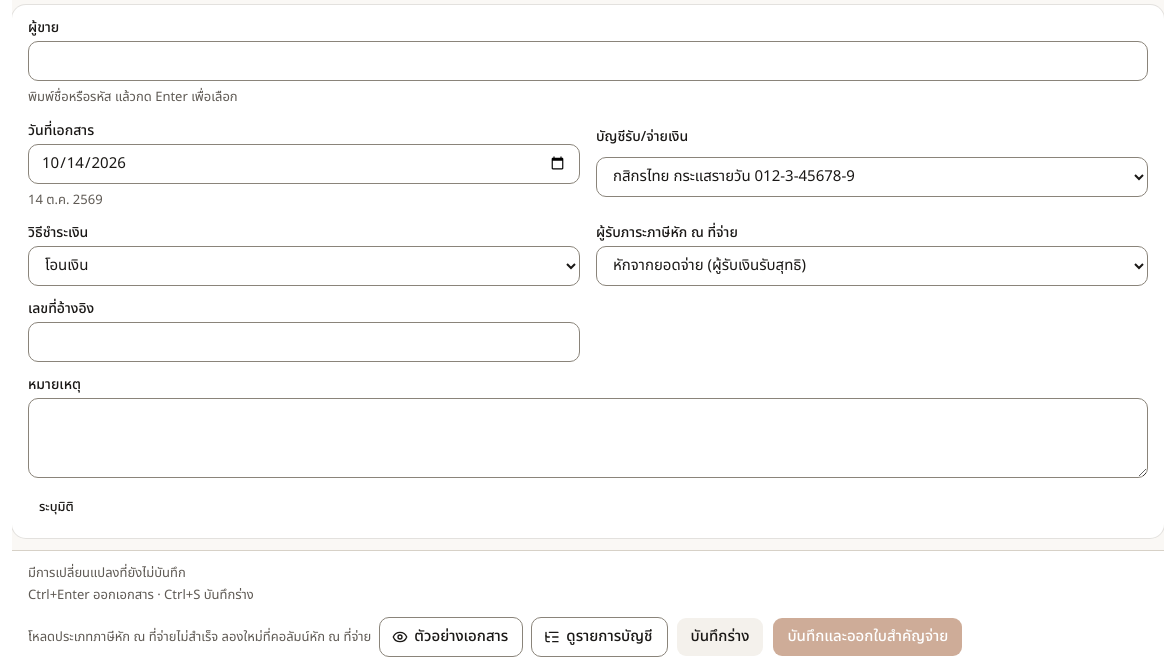
Scenario: DocEditor: payment voucher with withholding › a voucher line defaults to the no-VAT code, and a WHT-types load error shows a retry in the column and blocks issuing (never silently "none")
Type "ภูพาน" into the dropdown labelled "ผู้ขาย" at (588, 61), box [28,41,1148,81]
Then press Enter
(page scrolled)
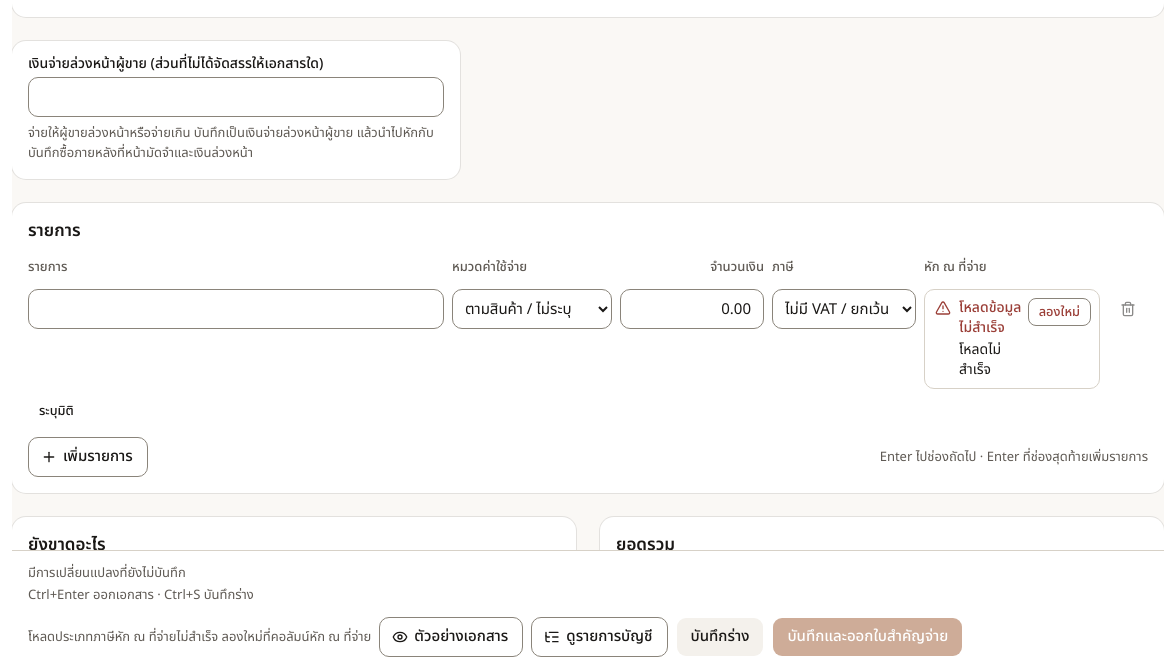
Expected: the dropdown named "ภาษีรายการ 1" shows "ไม่มี VAT / ยกเว้น", [772,289,916,329]
Type "ค่าถ่ายภาพ" into the dropdown named "รายการ 1" at (236, 309), box [28,289,444,329]
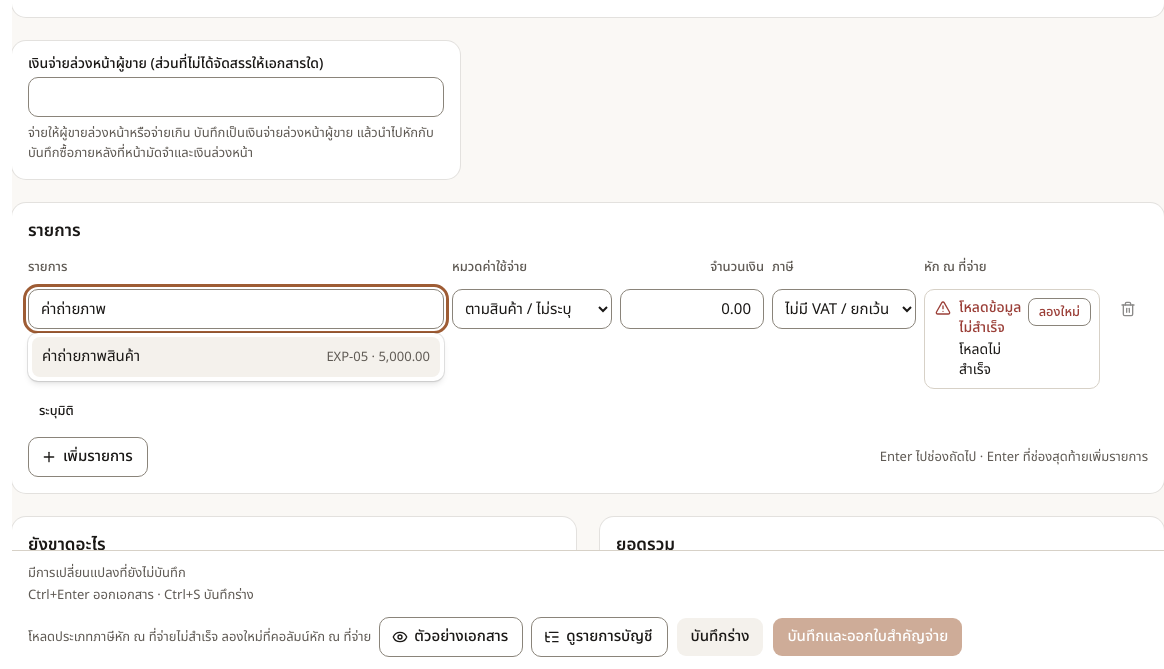
Replace the text in the field named "จำนวนเงินรายการ 1" with "5000" at (692, 309), box [620,289,764,329]
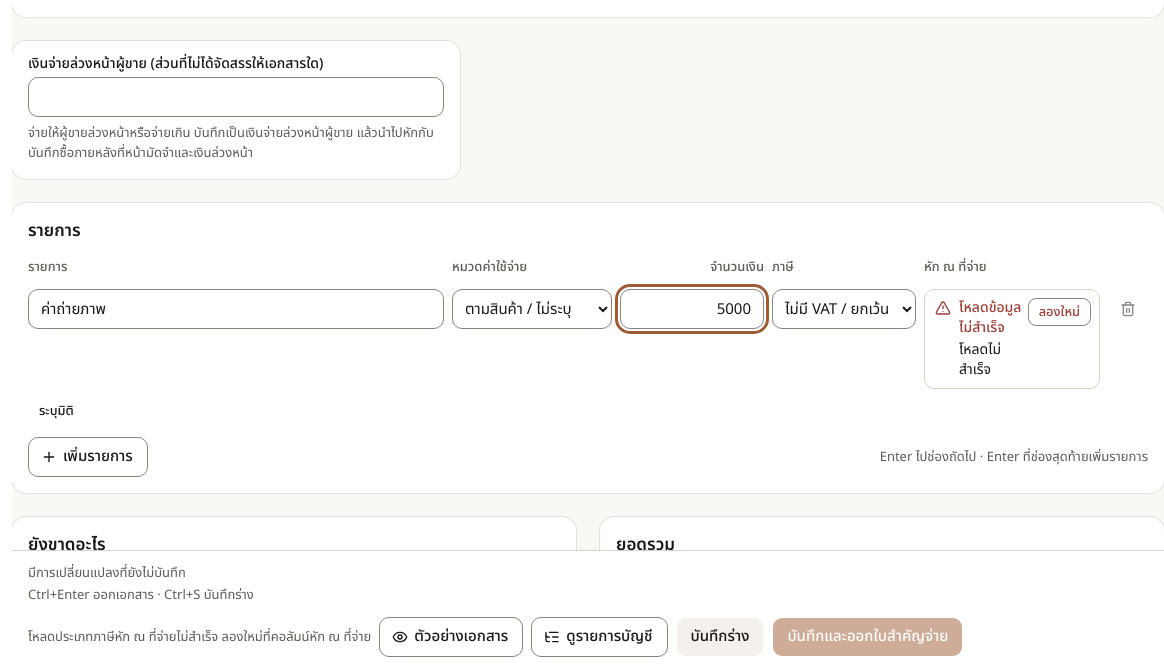
Expected: the option "ไม่หัก" is not shown
Expected: the button "บันทึกและออกใบสำคัญจ่าย" is disabled, [772,617,963,657]
Click the button "ลองใหม่" at (1059, 312), box [1028,298,1091,326]
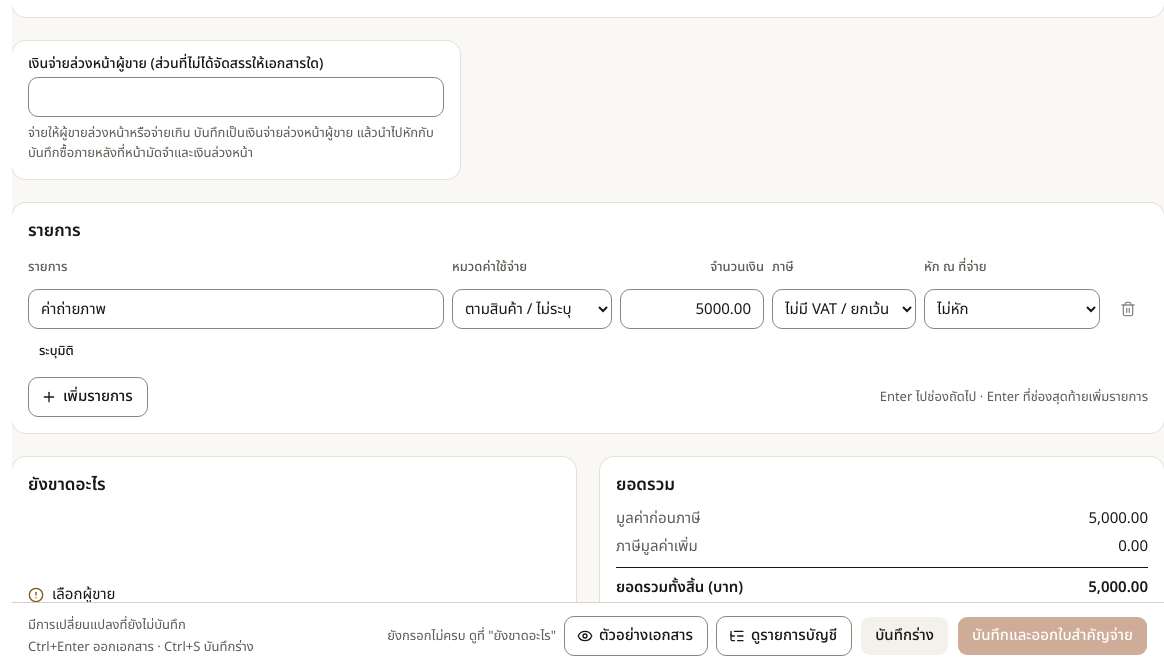
Expected: the dropdown named "หัก ณ ที่จ่ายรายการ 1" is shown, [924,289,1100,329]
